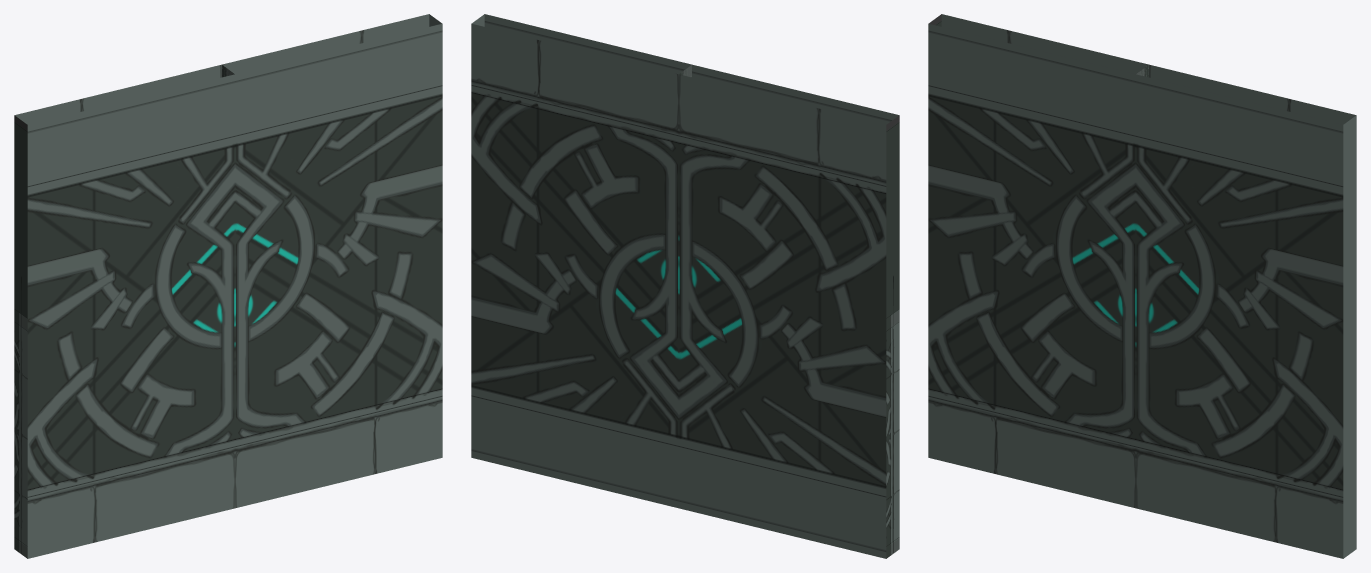
The model's file is Door.fbx.
3 views of the same model, side by side, from view 1: azimuth 30°, elevation 25°; view 2: azimuth 150°, elevation 25°; view 3: azimuth 330°, elevation 25° (orthographic).
Visible parts, largest first — view 1: R_Door, L_Door; view 2: R_Door, L_Door; view 3: L_Door, R_Door.
Part boxes in pixels (bbox=[...]): R_Door: bbox=[14, 64, 234, 558]; L_Door: bbox=[222, 14, 442, 508]; R_Door: bbox=[679, 64, 899, 558]; L_Door: bbox=[471, 14, 691, 508]; L_Door: bbox=[1136, 64, 1356, 558]; R_Door: bbox=[928, 14, 1148, 508].
Size of the model in its own units: 300 by 300 by 16.58.
1 material, 1 textured.
